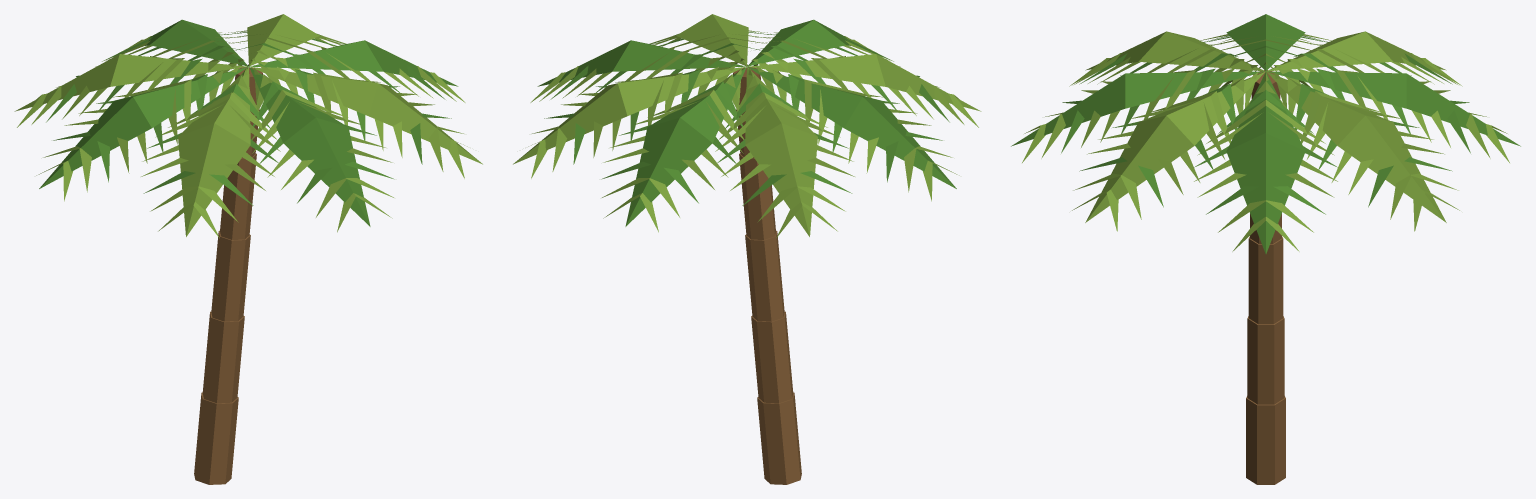
Rendered from palm.glb.
3 views of the same model, side by side, from view 1: azimuth 30°, elevation 25°; view 2: azimuth 150°, elevation 25°; view 3: azimuth 270°, elevation 25° (orthographic). The views are drawn at different scales.
Parts seen in each view (by area): view 1: PalmMesh; view 2: PalmMesh; view 3: PalmMesh.
Part boxes in pixels (bbox=[...]): PalmMesh: bbox=[14, 14, 482, 484]; PalmMesh: bbox=[513, 14, 981, 484]; PalmMesh: bbox=[1011, 14, 1520, 484].
Size of the model in its own units: 4 by 3.69 by 4.
